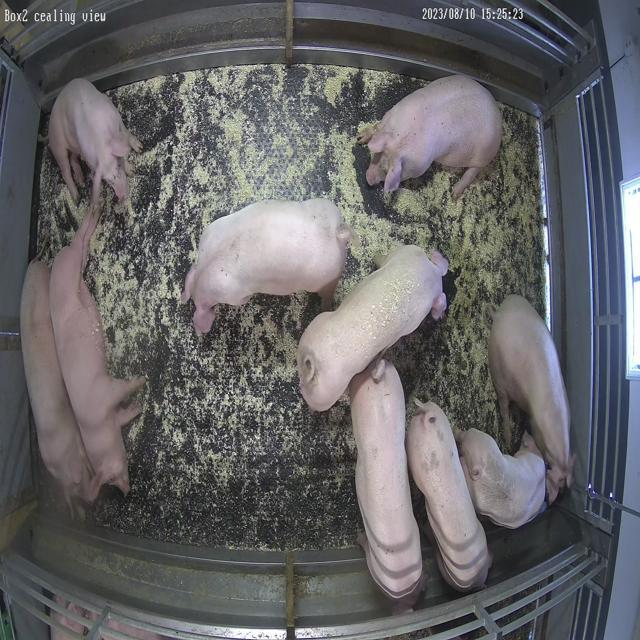Pig: (48, 205, 145, 496), (297, 245, 449, 412), (182, 199, 353, 335), (20, 260, 94, 510), (350, 359, 423, 602), (359, 75, 503, 198), (408, 404, 493, 592), (48, 78, 142, 202)
